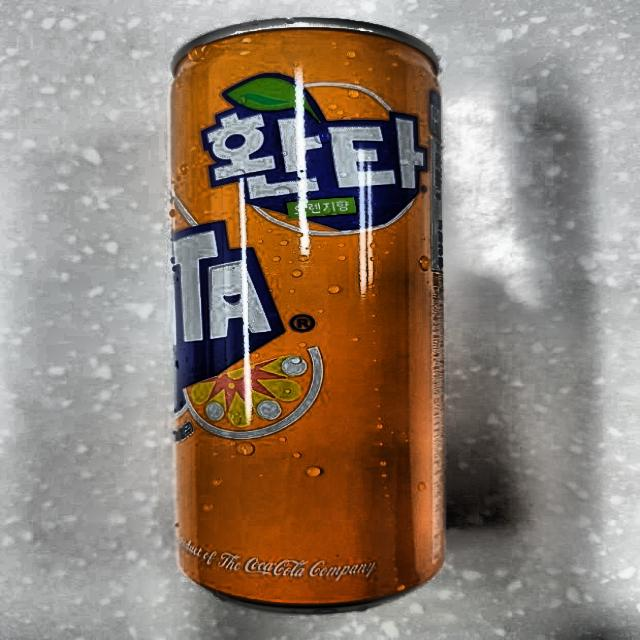fantaorange: (159, 19, 472, 616)
